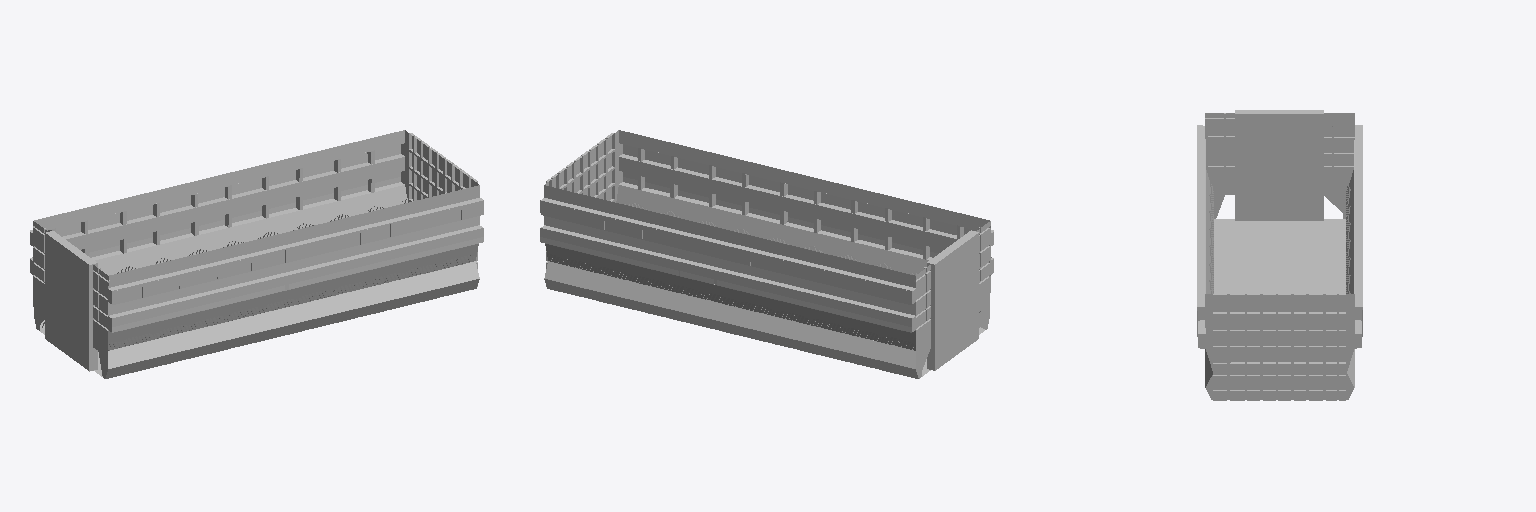
The model's file is walls.obj.
The picture shows the model from 3 angles: view 1: azimuth 30°, elevation 25°; view 2: azimuth 150°, elevation 25°; view 3: azimuth 270°, elevation 25°; orthographic projection.
Parts seen in each view (by area): view 1: Cube.025, Cube, Cube.001, Cube.010, Cube.002, Cube.011; view 2: Cube.025, Cube.001, Cube.010, Cube.002, Cube.011, Cube; view 3: Cube.025, Cube.001, Cube.011, Cube.010, Cube.012, Cube.002, Cube.005, Cube.
Boxes of the visible parts, x1=… form: Cube.025: x1=30, y1=130, x2=483, y2=378; Cube: x1=45, y1=231, x2=88, y2=370; Cube.001: x1=33, y1=227, x2=109, y2=378; Cube.010: x1=405, y1=130, x2=478, y2=260; Cube.002: x1=33, y1=221, x2=108, y2=328; Cube.011: x1=412, y1=136, x2=475, y2=199; Cube.025: x1=540, y1=130, x2=993, y2=378; Cube.001: x1=914, y1=227, x2=990, y2=378; Cube.010: x1=545, y1=130, x2=618, y2=260; Cube.002: x1=916, y1=221, x2=990, y2=327; Cube.011: x1=548, y1=136, x2=611, y2=200; Cube: x1=927, y1=231, x2=977, y2=370; Cube.025: x1=1197, y1=125, x2=1362, y2=387; Cube.001: x1=1205, y1=110, x2=1354, y2=220; Cube.011: x1=1213, y1=295, x2=1345, y2=373; Cube.010: x1=1205, y1=294, x2=1354, y2=372; Cube.012: x1=1213, y1=376, x2=1345, y2=400; Cube.002: x1=1205, y1=113, x2=1354, y2=166; Cube.005: x1=1206, y1=373, x2=1353, y2=399; Cube: x1=1235, y1=110, x2=1323, y2=220.
Bounding box in the file's own units: 111 × 30.04 × 42.15.